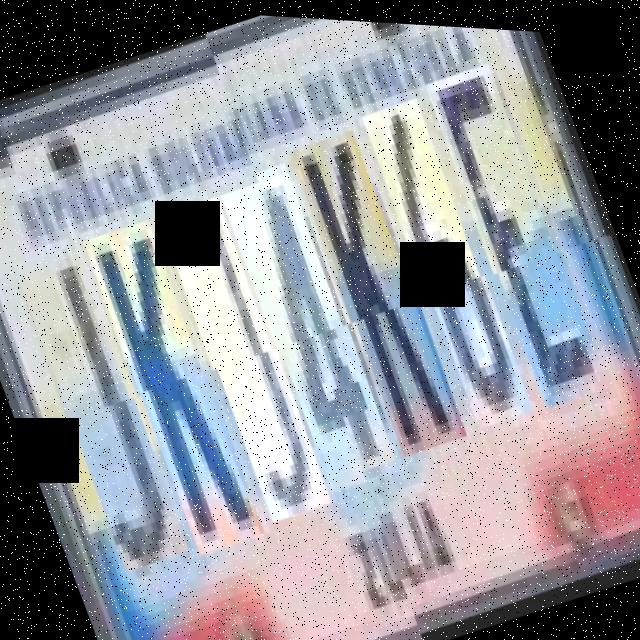4: (222, 165, 406, 492)
6: (367, 100, 543, 438)
E: (430, 63, 618, 415)
J: (13, 240, 195, 574), (160, 190, 338, 522)
K: (84, 213, 273, 557), (295, 132, 476, 464)
